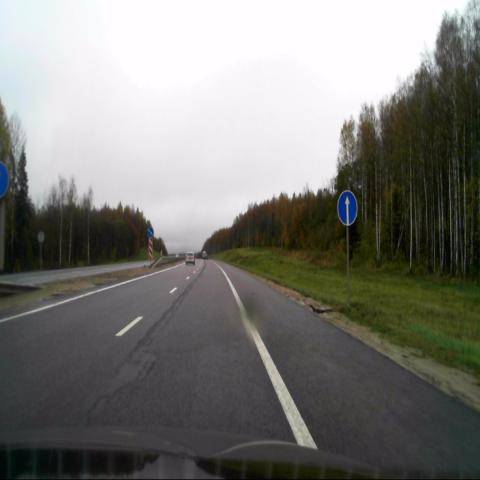4_1_1: (337, 189, 356, 225)
